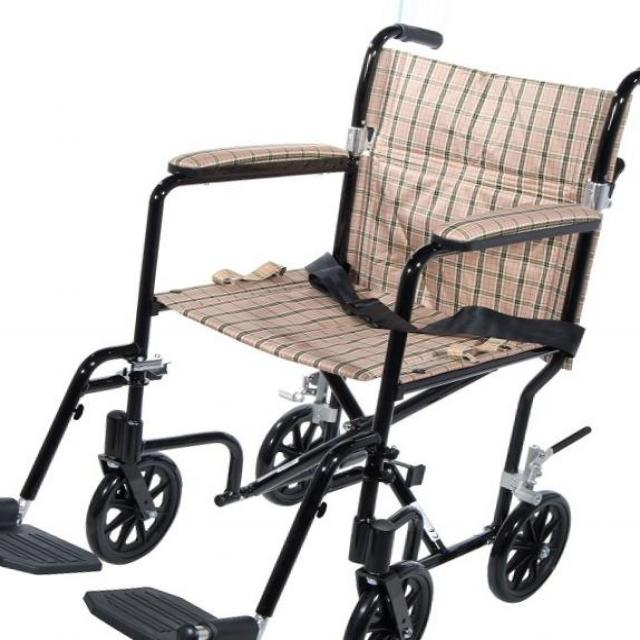wheelchair: (2, 15, 640, 639)
